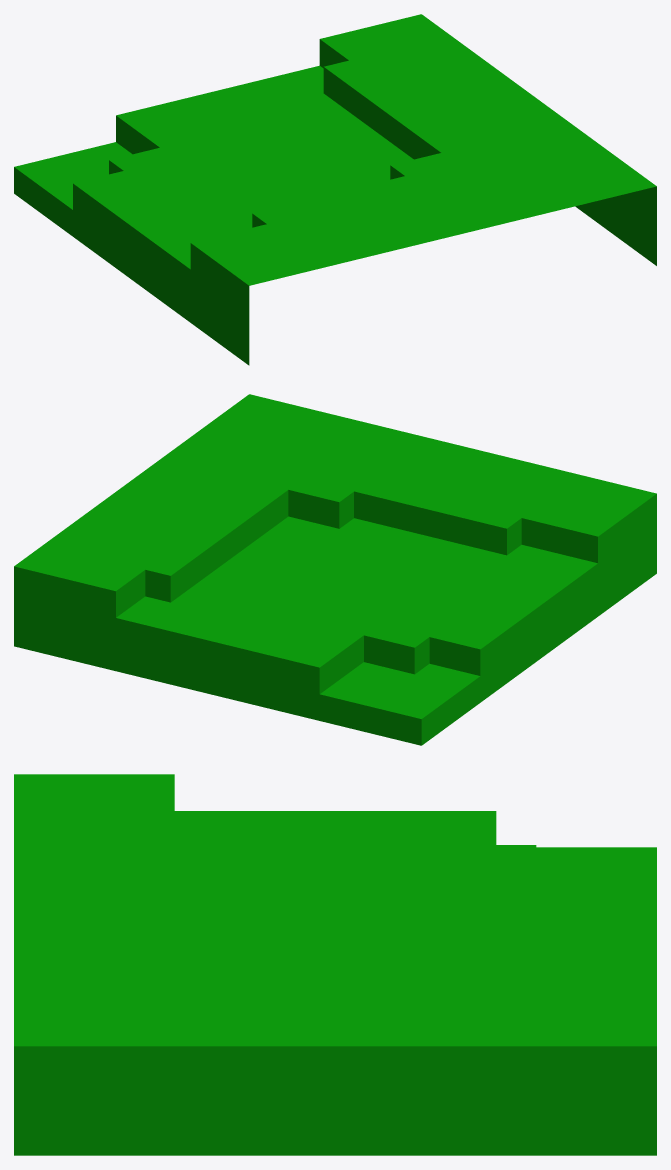
The model's file is Corner16.fbx.
3 views of the same model, one above another, from view 1: azimuth 30°, elevation 25°; view 2: azimuth 150°, elevation 25°; view 3: azimuth 270°, elevation 25° (orthographic). The views are drawn at different scales.
Visible parts, largest first — view 1: Matrix; view 2: Matrix; view 3: Matrix.
Part boxes in pixels (left/top/right/bottom): Matrix: left=14, top=14, right=656, bottom=365; Matrix: left=14, top=394, right=656, bottom=745; Matrix: left=14, top=774, right=656, bottom=1155.
Bounding box in the file's own units: 16 × 3 × 16.
1 material, 1 textured.
